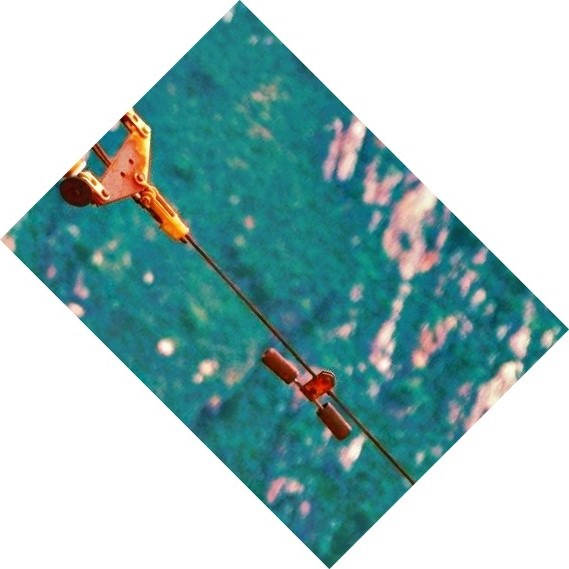Shockproof hammer: (259, 339, 356, 445)
